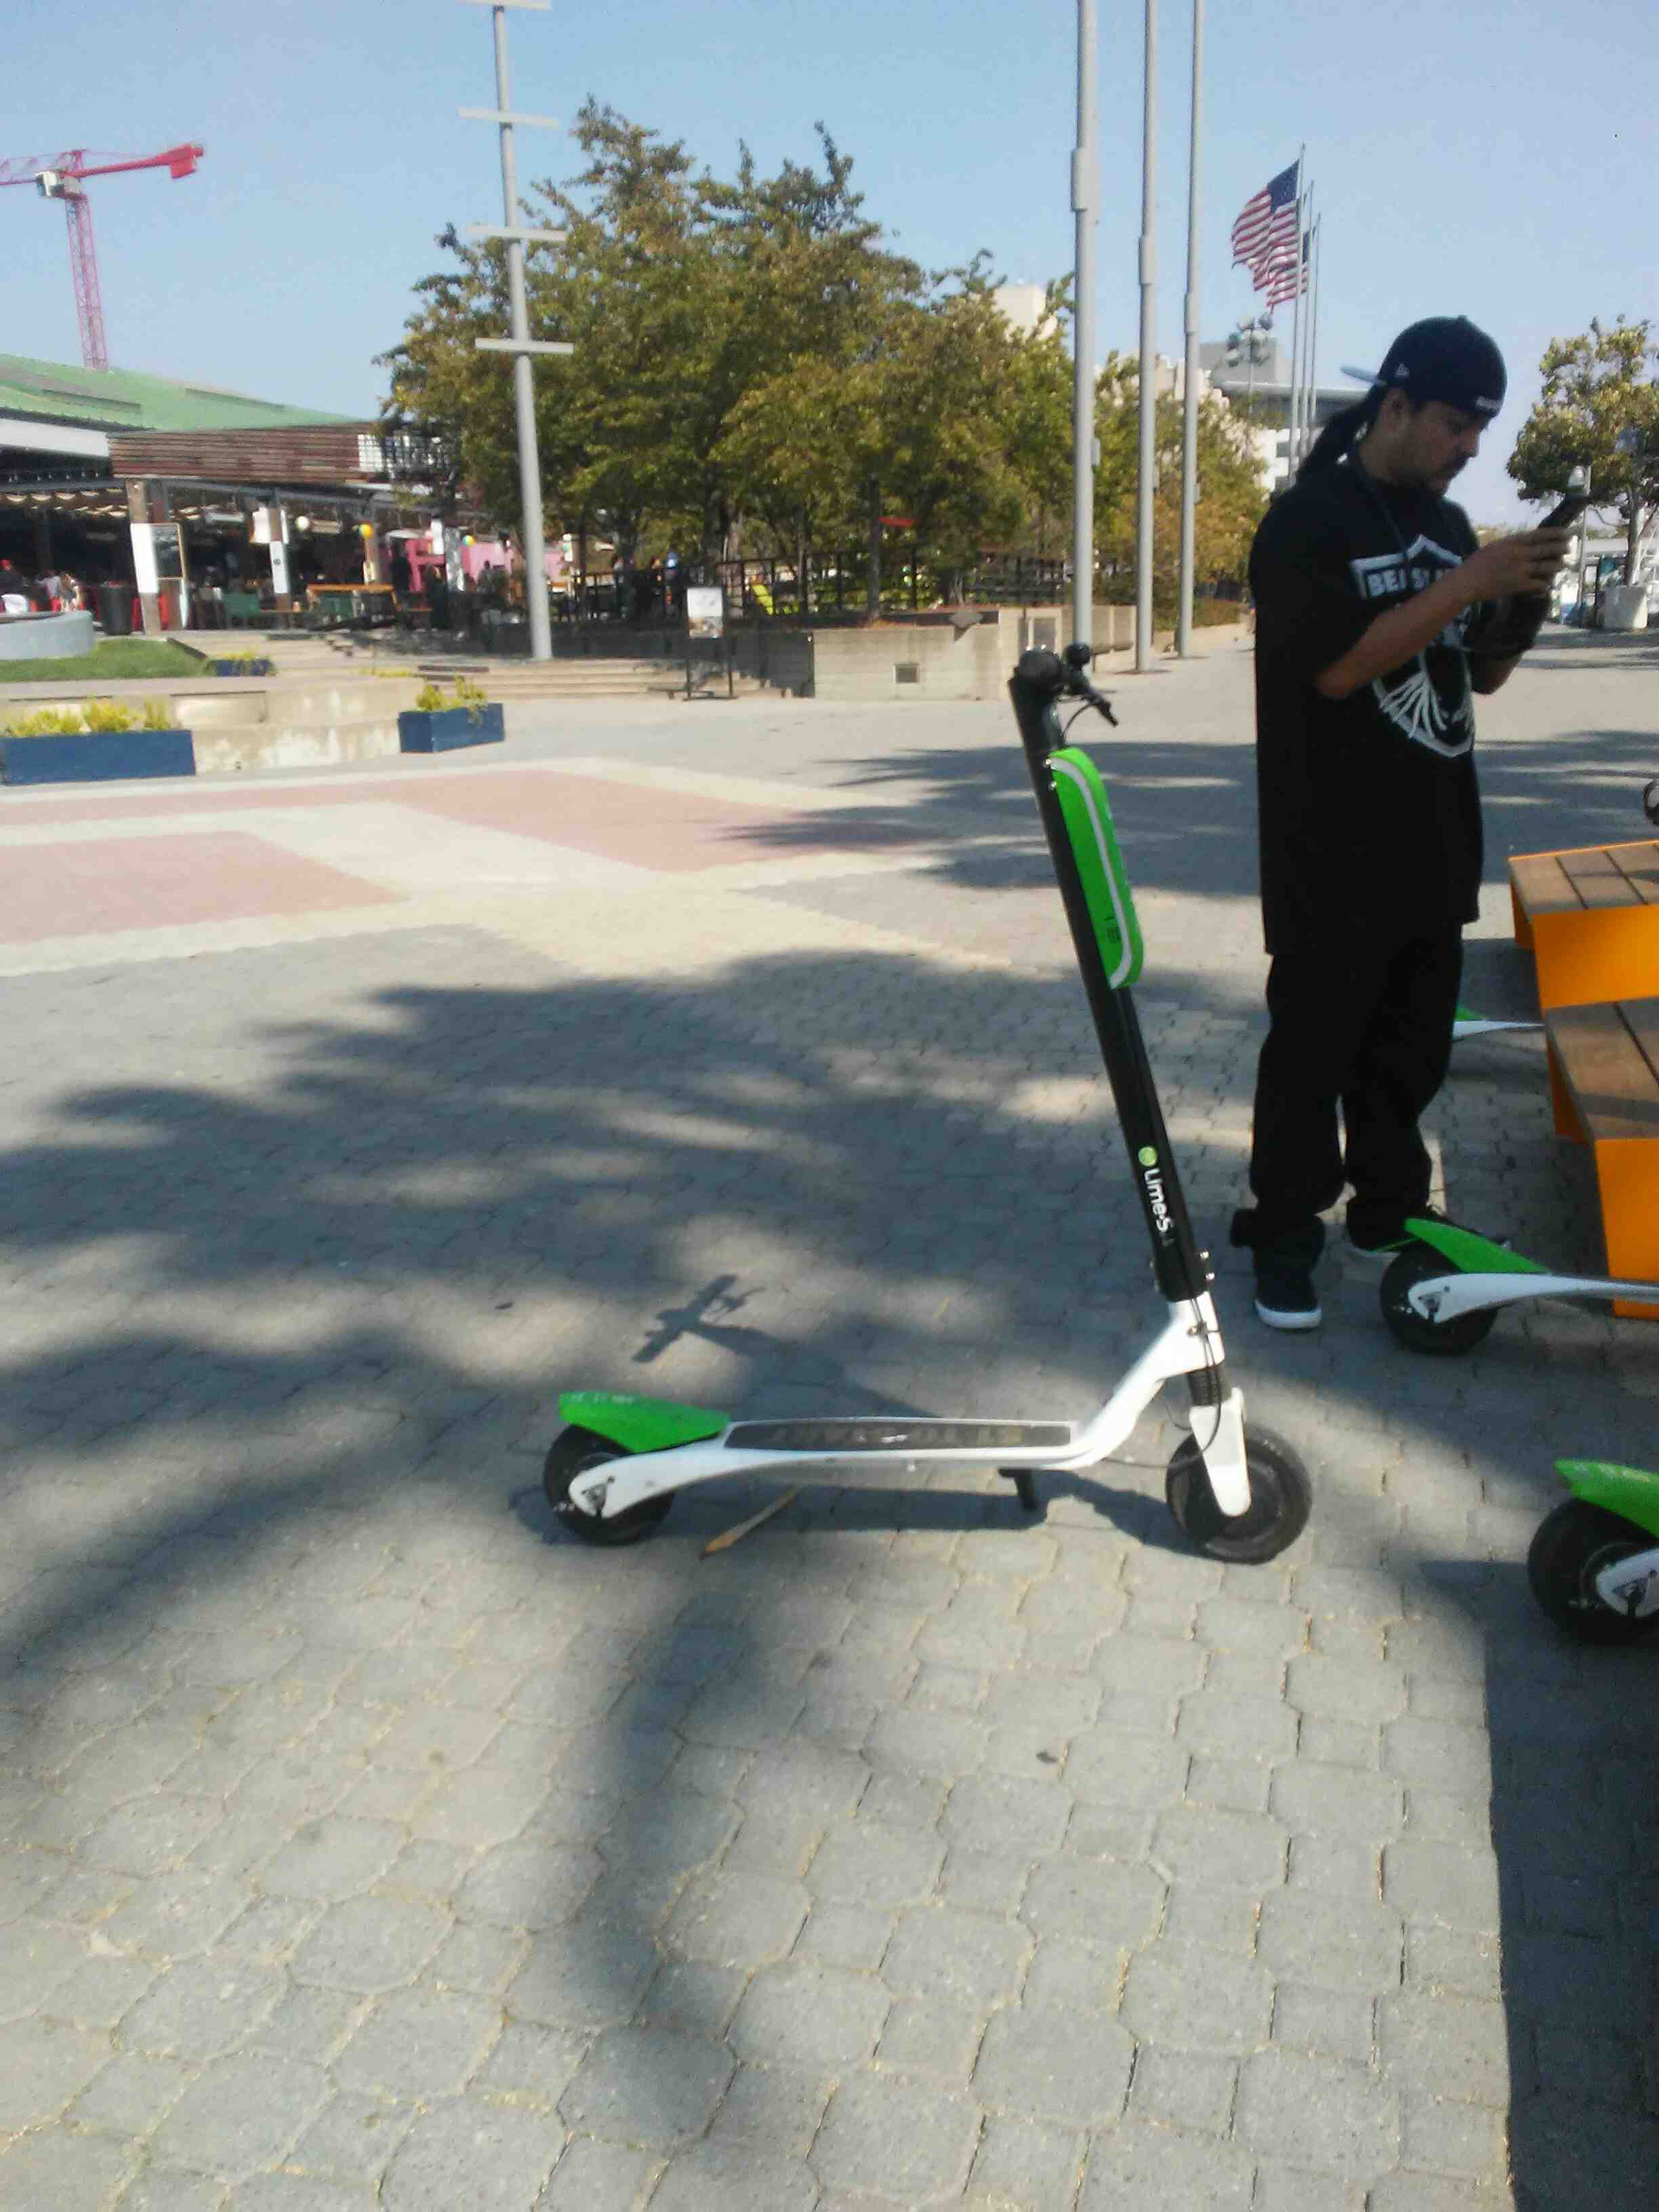scooter: (504, 644, 1265, 1622)
